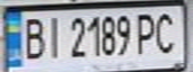1: (84, 12, 103, 57)
2: (66, 12, 87, 59)
8: (100, 12, 118, 56)
9: (115, 11, 136, 56)
B: (18, 14, 48, 61)
C: (151, 9, 181, 55)
I: (42, 14, 66, 61)
P: (133, 10, 160, 56)
